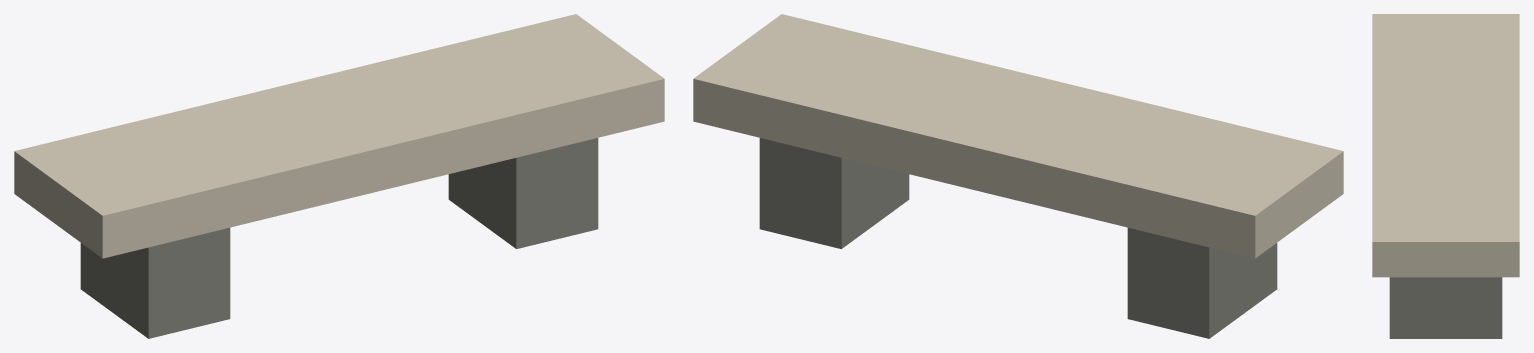
File: bench.glb
3 renders of one model, left to right at view 1: azimuth 30°, elevation 25°; view 2: azimuth 150°, elevation 25°; view 3: azimuth 270°, elevation 25°, orthographic. The views are drawn at different scales.
Parts seen in each view (by area): view 1: Bench; view 2: Bench; view 3: Bench.
Part boxes in pixels (x1=…): Bench: x1=14, y1=14, x2=664, y2=338; Bench: x1=693, y1=14, x2=1343, y2=338; Bench: x1=1372, y1=14, x2=1519, y2=338.
Bounding box in the file's own units: 2.2 × 0.54 × 0.6.
